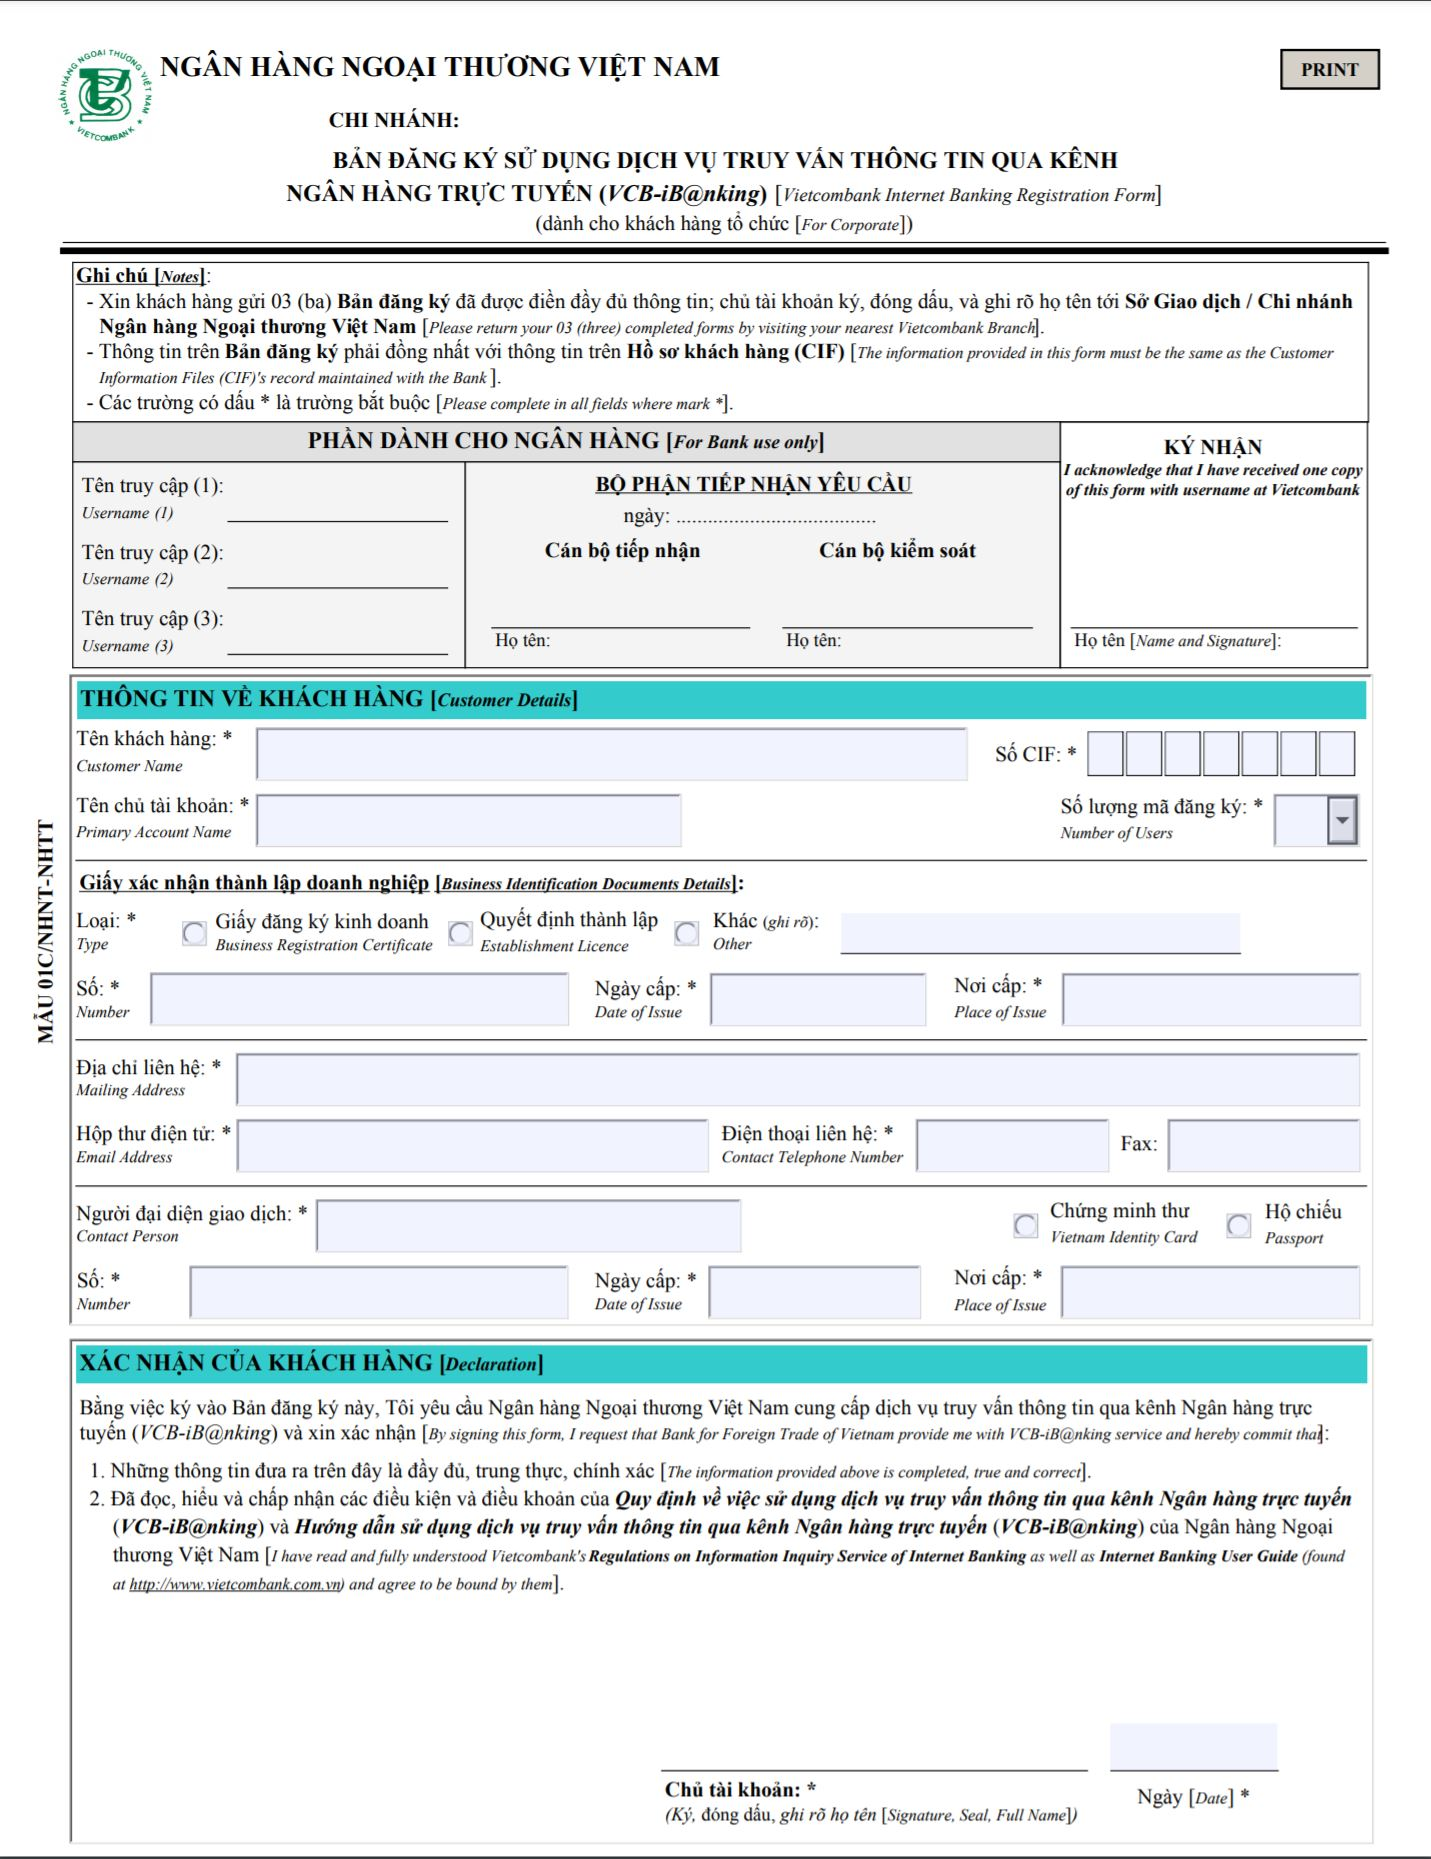box: (446, 917, 473, 945), (673, 917, 700, 945), (182, 920, 207, 945), (1015, 1211, 1039, 1237), (1227, 1214, 1251, 1235)
